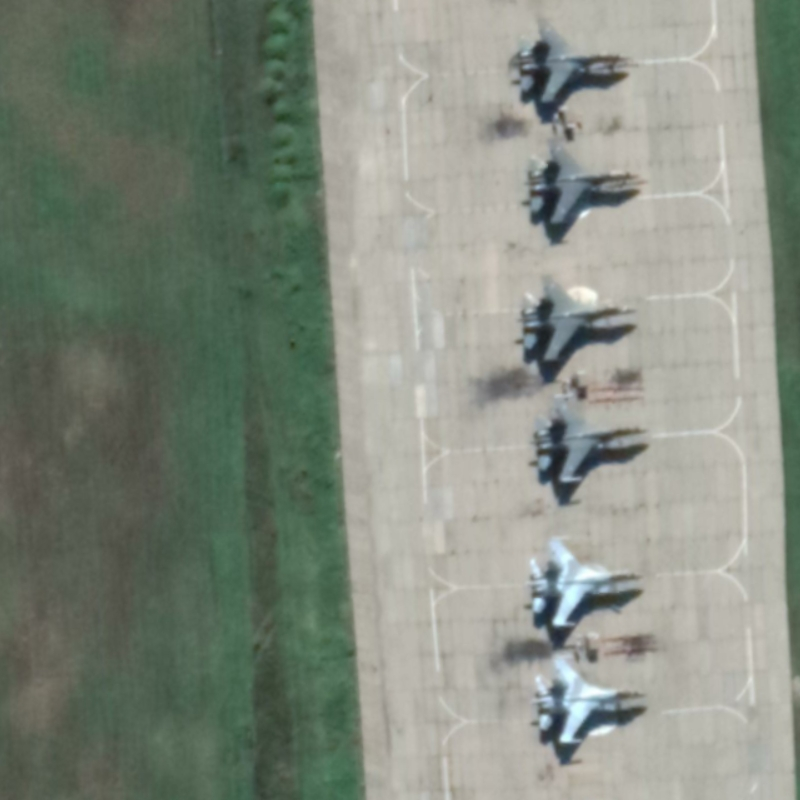A1: (524, 533, 646, 630), (530, 651, 651, 748), (510, 14, 635, 106), (531, 391, 651, 486), (517, 272, 639, 365), (521, 135, 644, 227)
